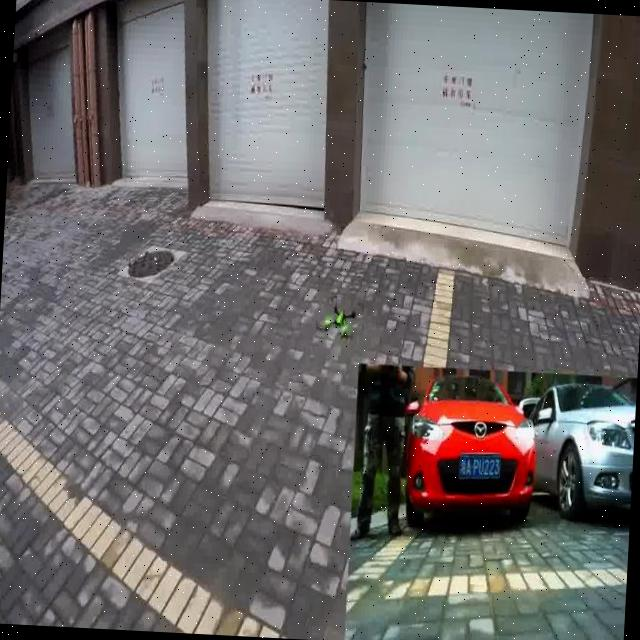drone: (314, 290, 366, 344)
